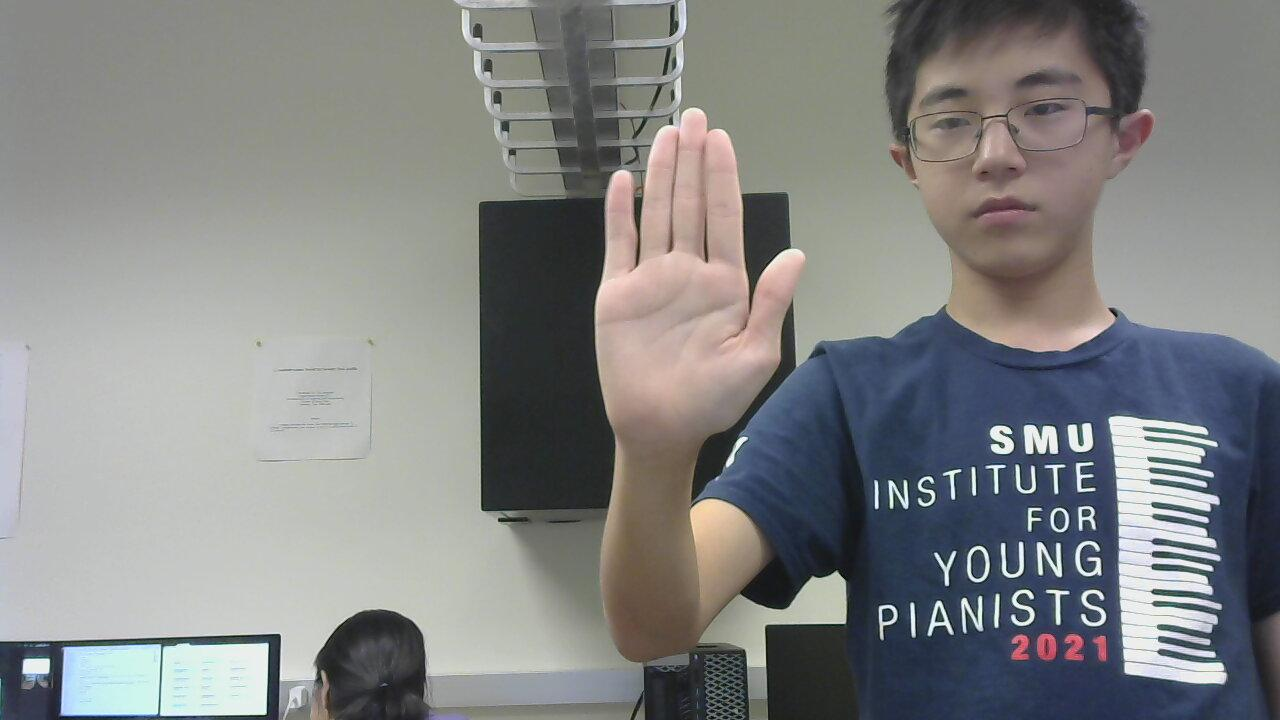hands: (588, 112, 790, 446)
